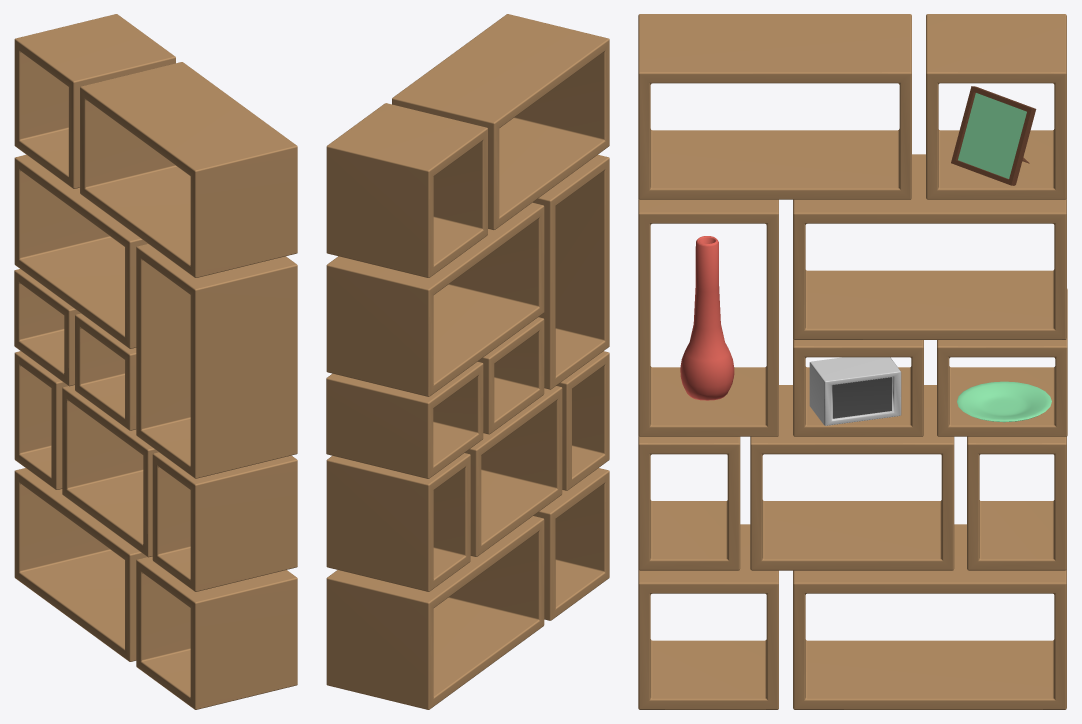
Rendered from Bookshelf_02.fbx.
The picture shows the model from 3 angles, left to right: view 1: azimuth 30°, elevation 25°; view 2: azimuth 150°, elevation 25°; view 3: azimuth 270°, elevation 25°; orthographic projection. The views are drawn at different scales.
Parts seen in each view (by area): view 1: Bookshelf_V02; view 2: Bookshelf_V02; view 3: Bookshelf_V02, Clock, Photo.001, Vase, Circle.
Part boxes in pixels (box(x1,y1,x2,y2)): Bookshelf_V02: box(14, 14, 297, 709); Bookshelf_V02: box(326, 14, 609, 709); Bookshelf_V02: box(638, 14, 1067, 709); Clock: box(809, 357, 901, 425); Photo.001: box(951, 86, 1036, 185); Vase: box(680, 236, 734, 400); Circle: box(957, 381, 1051, 422).
Size of the model in its own units: 153 by 50.92 by 250.
